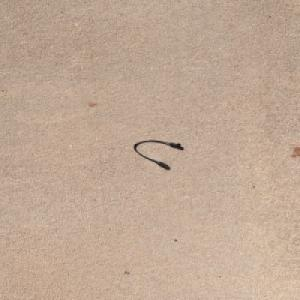Wire: (133, 139, 181, 168)
